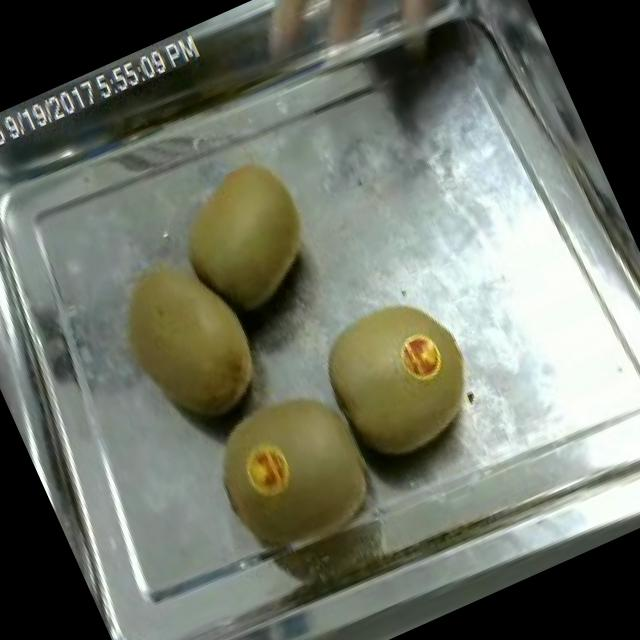Fruit: (184, 362, 398, 581), (91, 230, 288, 453), (301, 272, 501, 481), (152, 136, 343, 334)
